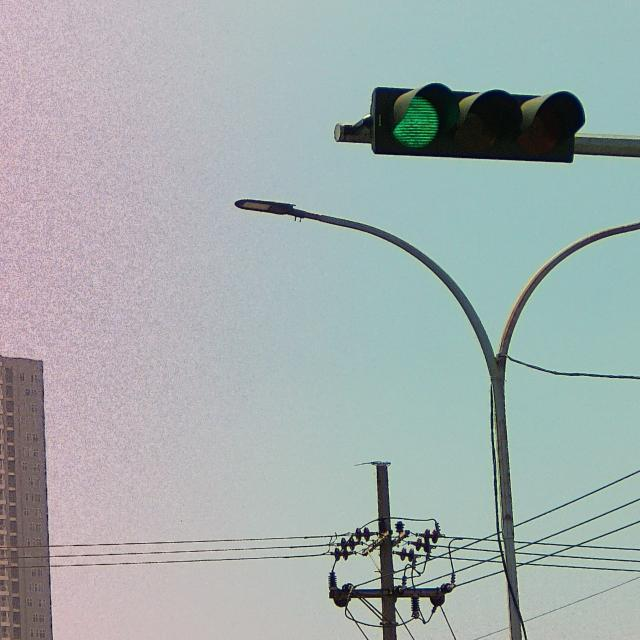green light: (372, 85, 584, 153)
